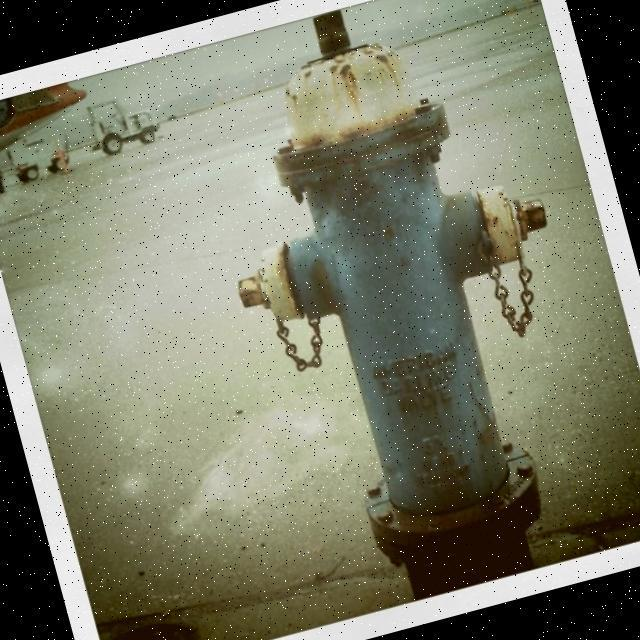fire_hydrant: (180, 0, 633, 622)
